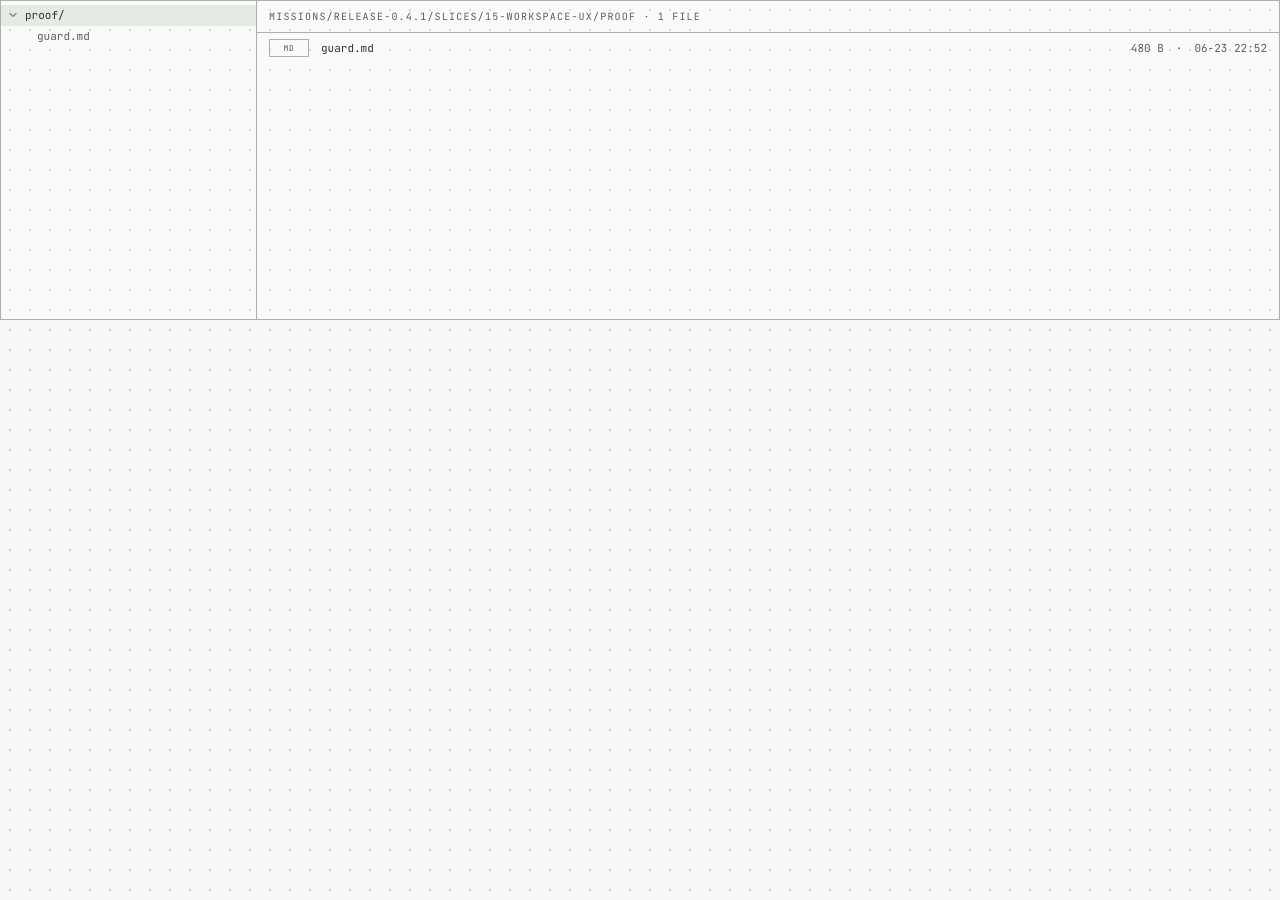
it: Artifacts navigator — proof-file hit target (PM half-pass 5ee2eea4) › GREEN control (right): clicking the nested right-pane filename button opens the file drawer with C1
Click the button with test id "artifacts-file-open-guard.md".
click(289, 48)  # box [257,33,1279,63]
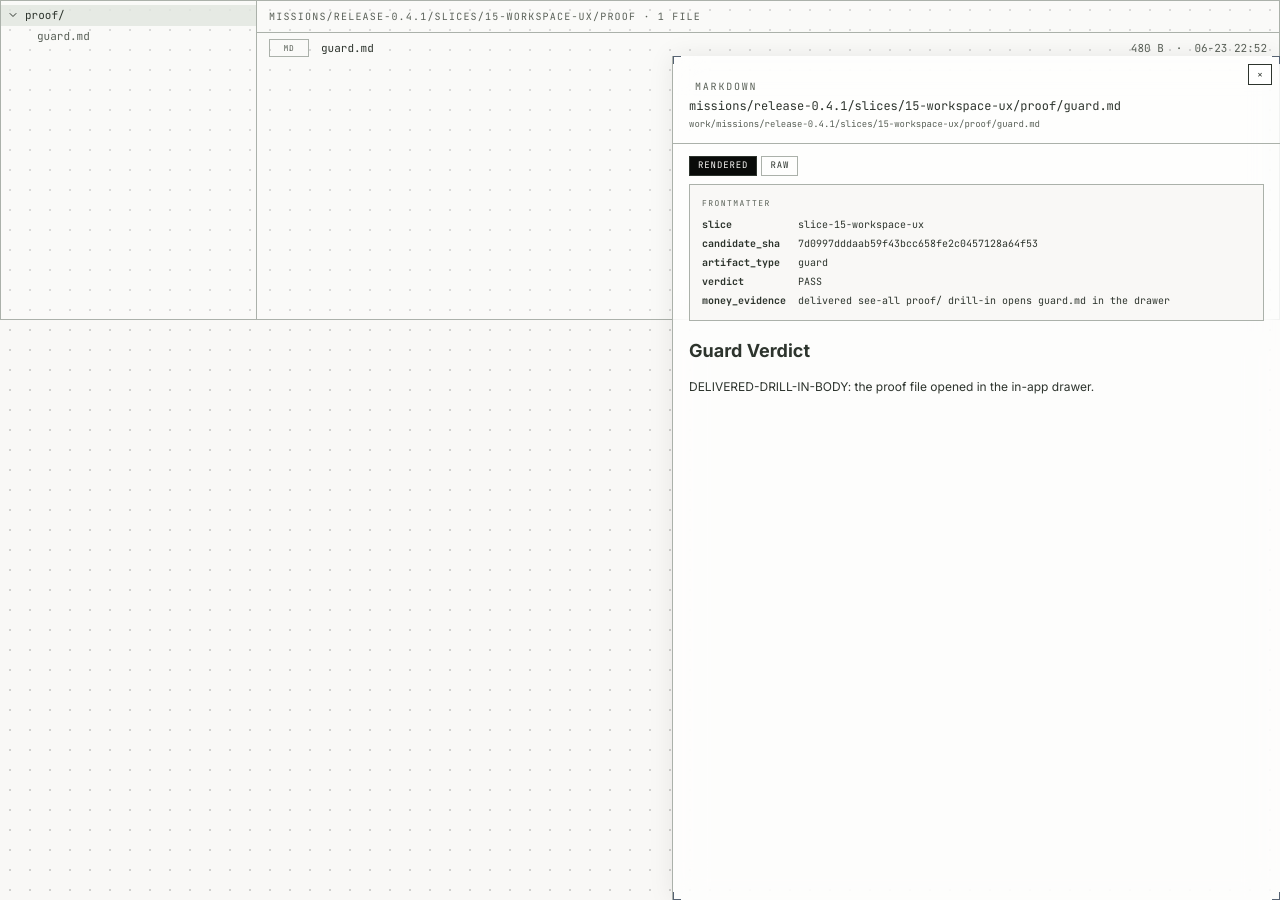
Now the number of elements with test id "file-viewer" is 1, box [673,56,1279,394]
Now the text "slice" is shown, box [702,218,732,230]
Now the text "slice-15-workspace-ux" is shown, box [798,218,924,230]
